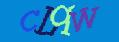L: (34, 7, 57, 36)
c: (20, 11, 39, 30)
q: (50, 5, 74, 34)
w: (69, 6, 98, 30)
